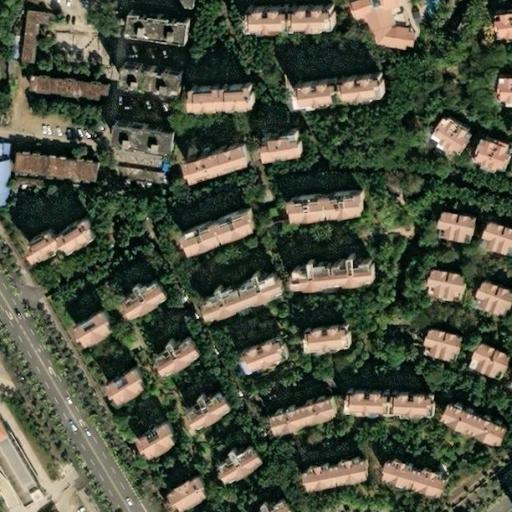building: (203, 267, 290, 315), (182, 205, 261, 250), (444, 406, 512, 451), (333, 0, 402, 42), (292, 72, 385, 101), (180, 143, 245, 184), (385, 464, 451, 502), (10, 153, 92, 183), (295, 256, 381, 284), (272, 390, 337, 427), (24, 77, 106, 104), (293, 189, 372, 217), (305, 453, 371, 483), (242, 5, 334, 26), (122, 271, 167, 313), (123, 17, 184, 46), (215, 436, 260, 474), (190, 88, 257, 113), (107, 128, 169, 155), (108, 159, 165, 188), (111, 366, 153, 405), (432, 116, 473, 155), (244, 332, 291, 366), (143, 420, 183, 459), (79, 310, 120, 348), (172, 473, 214, 510), (15, 11, 44, 64), (117, 71, 176, 97), (154, 331, 195, 368), (185, 384, 228, 419), (427, 269, 471, 302), (438, 211, 482, 243), (471, 345, 512, 379), (427, 329, 468, 362), (474, 283, 512, 318), (473, 137, 512, 171), (54, 217, 93, 251), (263, 129, 305, 158), (481, 222, 512, 257), (306, 320, 351, 343), (348, 386, 395, 408), (27, 231, 60, 262), (394, 388, 436, 410), (260, 497, 295, 512), (496, 14, 512, 42), (501, 78, 512, 104)
